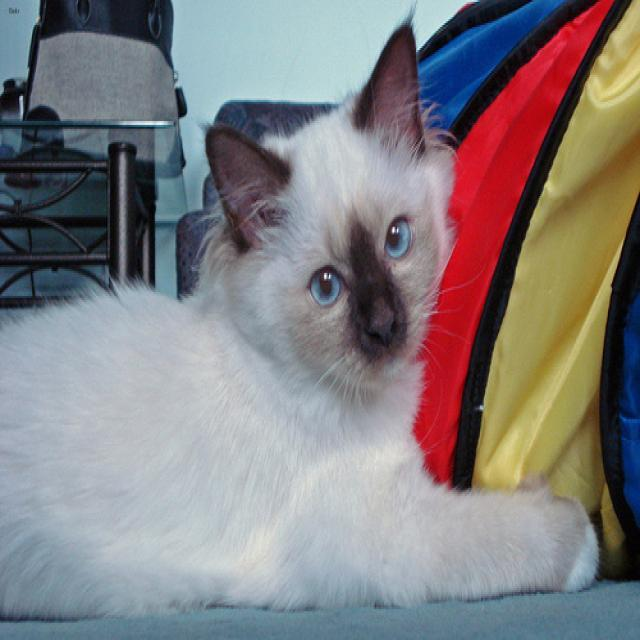Birman: (198, 10, 459, 378)
